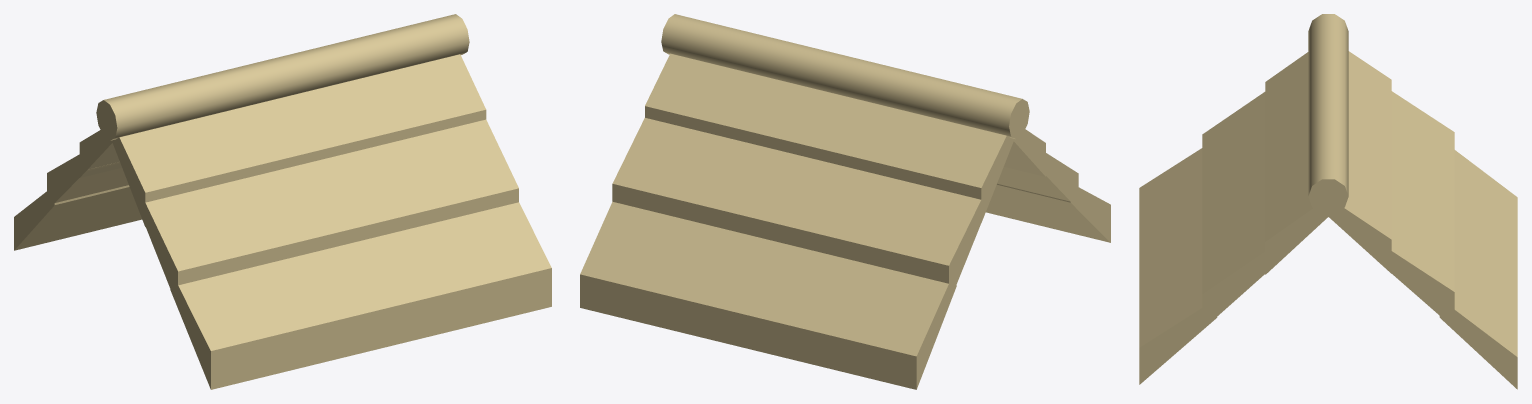
The model's file is thatch_roof_ridge_steep.glb.
3 renders of one model, left to right at view 1: azimuth 30°, elevation 25°; view 2: azimuth 150°, elevation 25°; view 3: azimuth 270°, elevation 25°, orthographic. The views are drawn at different scales.
Visible parts, largest first — view 1: Roof; view 2: Roof; view 3: Roof.
Part boxes in pixels (<box>): Roof: <box>14,14,551,389</box>; Roof: <box>580,14,1110,389</box>; Roof: <box>1139,14,1517,389</box>.
Size of the model in its own units: 3.1 by 1.87 by 3.
